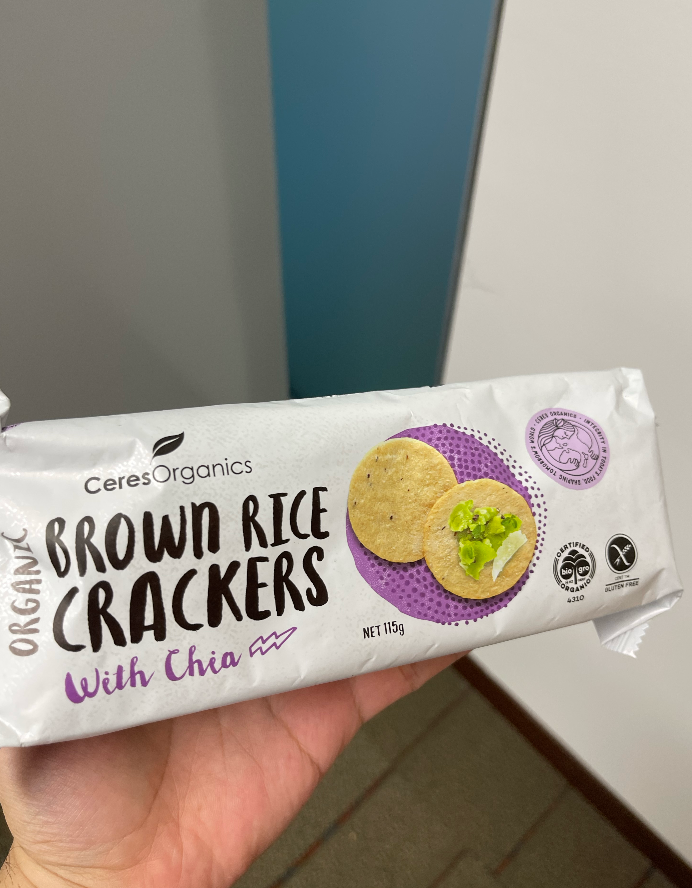crackers_100g-199g: (50, 423, 633, 645)
